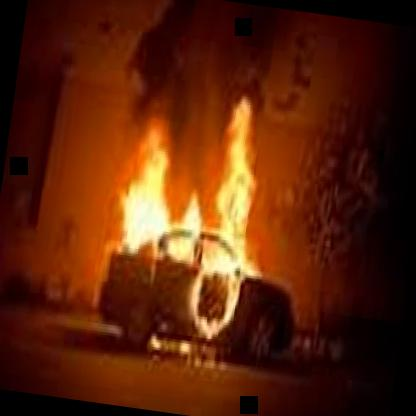fire: (78, 66, 310, 356)
